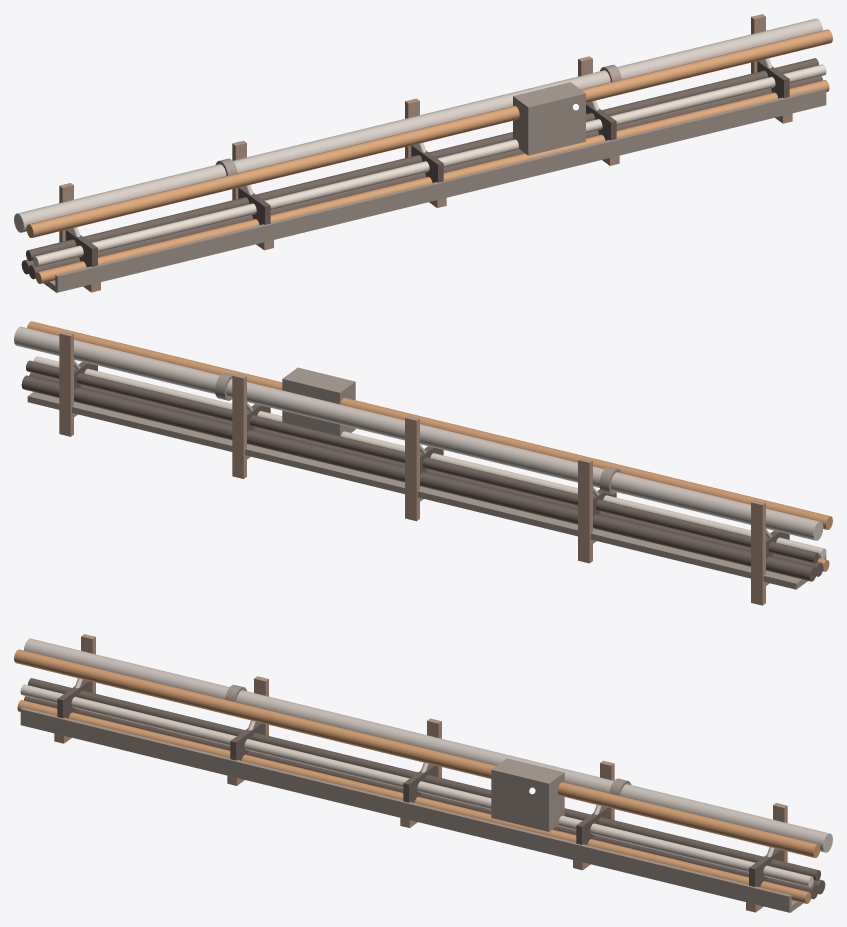
File: P11_cable_bundle_4m.glb
3 views of the same model, one above another, from view 1: azimuth 30°, elevation 25°; view 2: azimuth 150°, elevation 25°; view 3: azimuth 330°, elevation 25° (orthographic).
Visible parts, largest first — view 1: strap, cable_tray, bracket_brace, wall_bracket; view 2: strap, bracket_brace, cable_tray, wall_bracket; view 3: strap, cable_tray, bracket_brace, wall_bracket.
Part boxes in pixels (x1=…): strap: x1=21, y1=29, x2=832, y2=283; cable_tray: x1=43, y1=64, x2=826, y2=292; bracket_brace: x1=14, y1=18, x2=822, y2=236; wall_bracket: x1=59, y1=14, x2=792, y2=292; strap: x1=21, y1=321, x2=832, y2=581; bracket_brace: x1=14, y1=326, x2=823, y2=540; cable_tray: x1=27, y1=367, x2=826, y2=589; wall_bracket: x1=59, y1=331, x2=769, y2=605; strap: x1=14, y1=649, x2=825, y2=903; cable_tray: x1=20, y1=684, x2=803, y2=912; bracket_brace: x1=24, y1=638, x2=832, y2=856; wall_bracket: x1=54, y1=634, x2=787, y2=912.
Bounding box in the file's own units: 4.16 × 0.5 × 0.3251.
